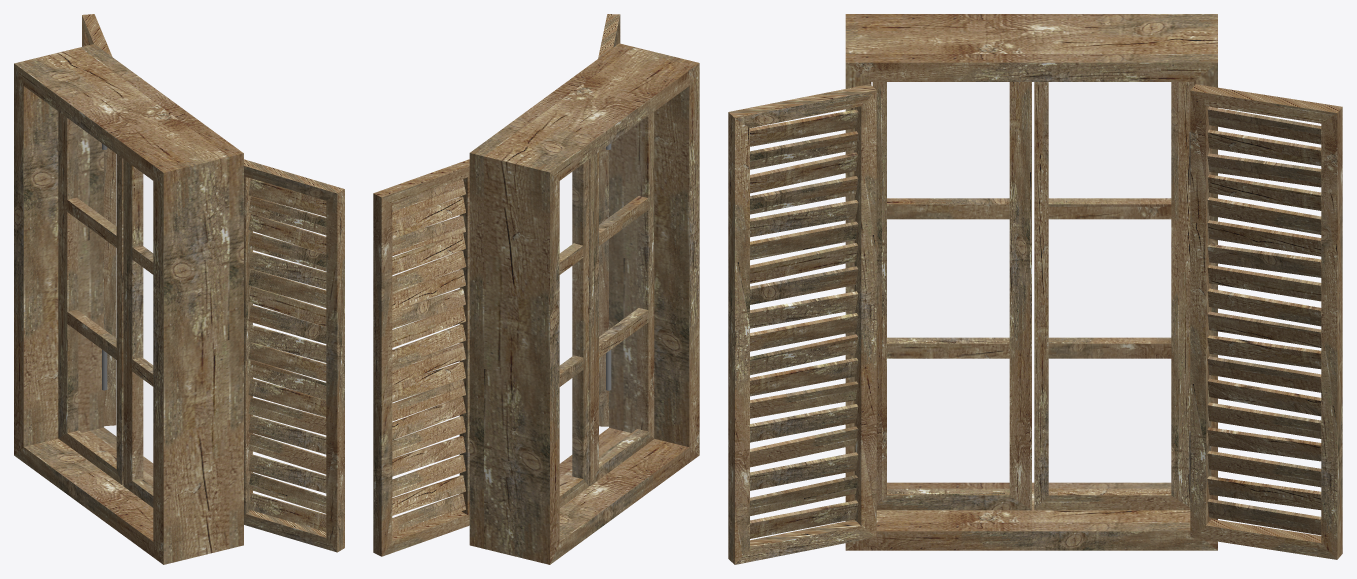
The model's file is OldHouseWindowWoodOpen.obj.
3 views of the same model, side by side, from view 1: azimuth 30°, elevation 25°; view 2: azimuth 150°, elevation 25°; view 3: azimuth 270°, elevation 25° (orthographic). The views are drawn at different scales.
Visible parts, largest first — view 1: Rectangle02, Rectangle03, Rectangle05, Rectangle01, Rectangle04; view 2: Rectangle02, Rectangle04, Rectangle01, Rectangle05, Rectangle03; view 3: Rectangle04, Rectangle03, Rectangle02, Rectangle05, Rectangle01.
Part boxes in pixels (box(x1,y1,x2,y2)): Rectangle02: box(14, 44, 243, 564); Rectangle03: box(244, 159, 344, 552); Rectangle05: box(58, 111, 123, 485); Rectangle01: box(123, 159, 153, 507); Rectangle04: box(82, 14, 116, 426); Rectangle02: box(469, 43, 699, 564); Rectangle04: box(373, 159, 469, 556); Rectangle01: box(589, 112, 654, 485); Rectangle05: box(559, 159, 589, 507); Rectangle03: box(598, 14, 620, 426); Rectangle04: box(1190, 84, 1342, 559); Rectangle03: box(728, 84, 876, 564); Rectangle02: box(845, 14, 1217, 550); Rectangle05: box(1034, 82, 1193, 510); Rectangle01: box(872, 82, 1031, 510).
Bounding box in the file's own units: 0.5843 × 1.6 × 1.83.
Materials: 3 (1 with a texture image).
